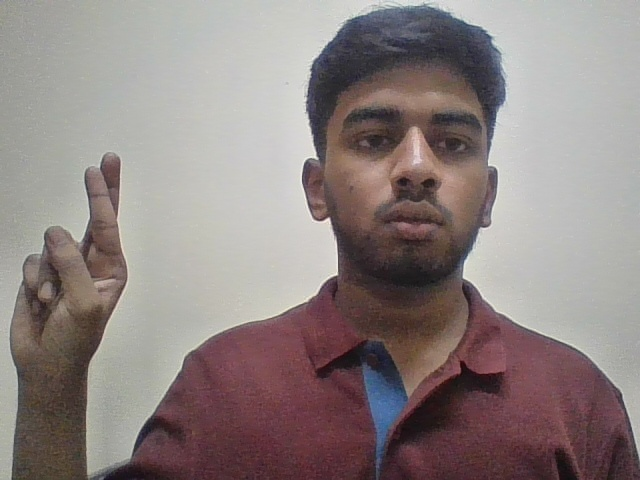R: (4, 148, 148, 423)
